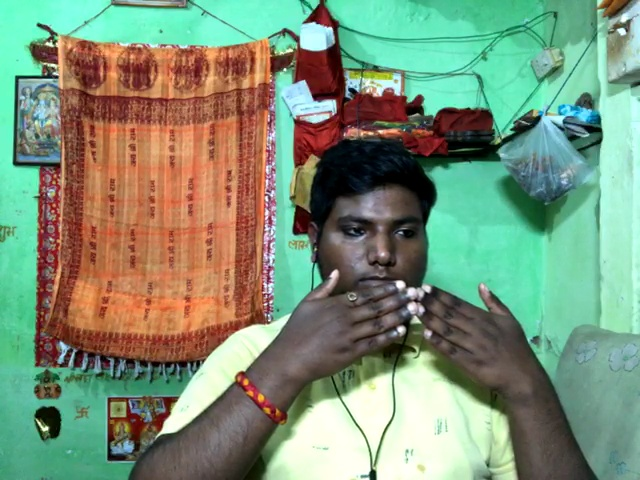Thanks: (177, 250, 564, 422)
